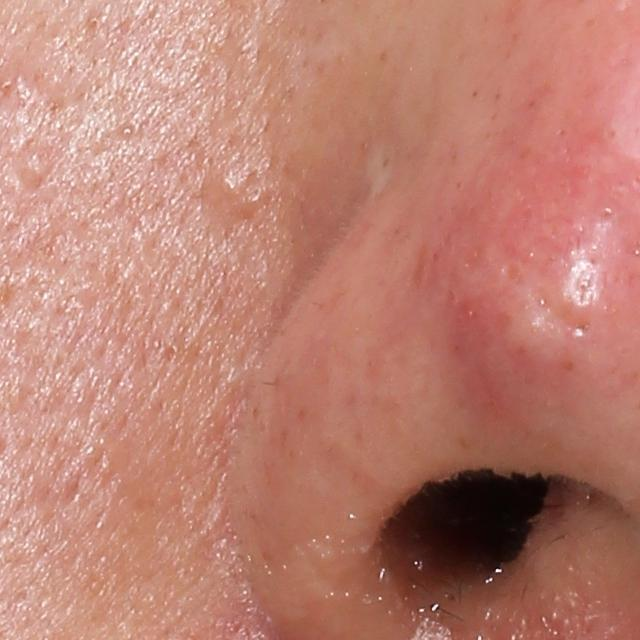comedo: (208, 159, 252, 203), (15, 150, 50, 188), (118, 122, 137, 141)
